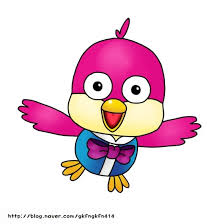Harry: (17, 17, 202, 196)
